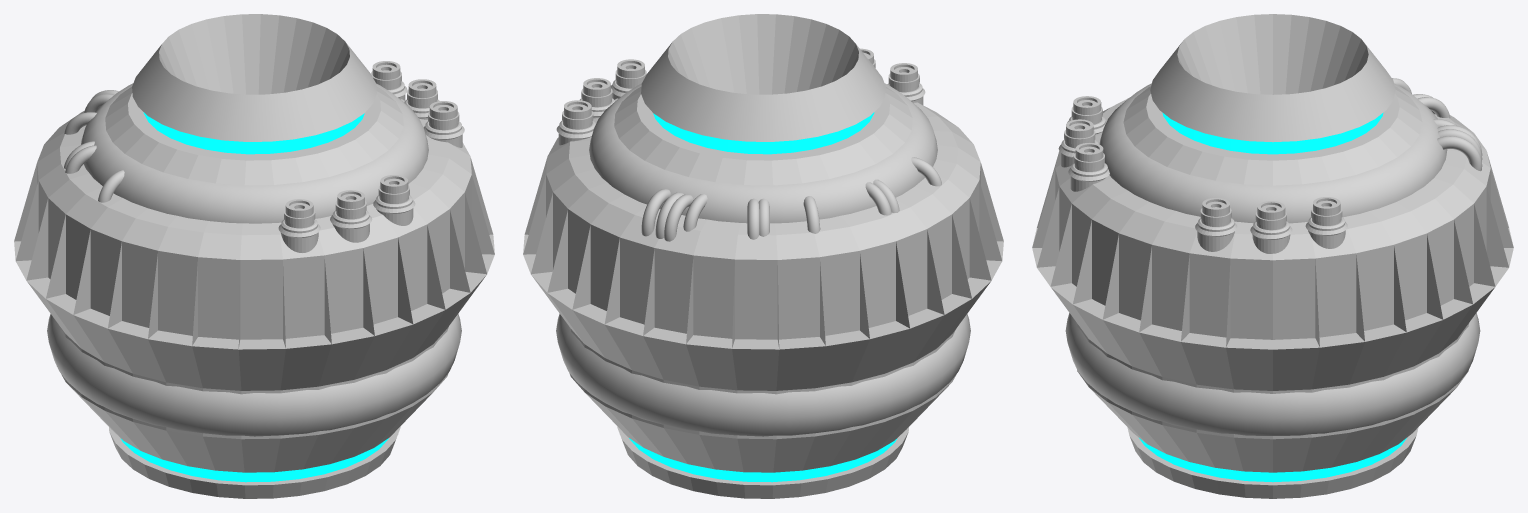
The model's file is PowerSource1.fbx.
3 views of the same model, side by side, from view 1: azimuth 30°, elevation 25°; view 2: azimuth 150°, elevation 25°; view 3: azimuth 270°, elevation 25° (orthographic).
Visible parts, largest first — view 1: Circle, Torus_011, Torus, Circle_002, Circle_001, Cylinder_001, Cylinder, Cylinder_002, Cylinder_004, Cylinder_005, Cylinder_003; view 2: Circle, Torus_011, Torus, Circle_002, Circle_001, Cylinder_003, Cylinder_001, Cylinder_004, Cylinder_005, Torus_002, Torus_003; view 3: Circle, Torus_011, Torus, Circle_002, Circle_001, Cylinder_004, Cylinder_005, Cylinder_003, Cylinder_002, Cylinder, Cylinder_001, Torus_002.
Boxes of the visible parts, bbox=[...] form: Circle: bbox=[14, 14, 494, 498]; Torus_011: bbox=[47, 313, 461, 436]; Torus: bbox=[81, 83, 428, 223]; Circle_002: bbox=[132, 43, 376, 141]; Circle_001: bbox=[120, 112, 388, 482]; Cylinder_001: bbox=[278, 199, 320, 252]; Cylinder: bbox=[330, 190, 372, 242]; Cylinder_002: bbox=[373, 175, 415, 225]; Cylinder_004: bbox=[423, 101, 464, 147]; Cylinder_005: bbox=[404, 79, 439, 119]; Cylinder_003: bbox=[371, 61, 407, 100]; Circle: bbox=[523, 14, 1003, 498]; Torus_011: bbox=[556, 313, 970, 436]; Torus: bbox=[589, 83, 937, 223]; Circle_002: bbox=[641, 43, 885, 141]; Circle_001: bbox=[629, 112, 897, 482]; Cylinder_003: bbox=[556, 100, 595, 145]; Cylinder_001: bbox=[887, 63, 925, 104]; Cylinder_004: bbox=[611, 59, 646, 99]; Cylinder_005: bbox=[580, 78, 615, 118]; Torus_002: bbox=[641, 189, 670, 236]; Torus_003: bbox=[664, 194, 692, 241]; Circle: bbox=[1032, 14, 1513, 498]; Torus_011: bbox=[1065, 313, 1480, 435]; Torus: bbox=[1099, 83, 1447, 223]; Circle_002: bbox=[1150, 43, 1395, 142]; Circle_001: bbox=[1139, 112, 1406, 482]; Cylinder_004: bbox=[1195, 198, 1237, 251]; Cylinder_005: bbox=[1250, 201, 1292, 253]; Cylinder_003: bbox=[1305, 197, 1347, 248]; Cylinder_002: bbox=[1068, 143, 1109, 191]; Cylinder: bbox=[1058, 119, 1098, 167]; Cylinder_001: bbox=[1067, 96, 1106, 134]; Torus_002: bbox=[1437, 136, 1482, 171].
Size of the model in its own units: 3.43 by 3.03 by 3.43.
